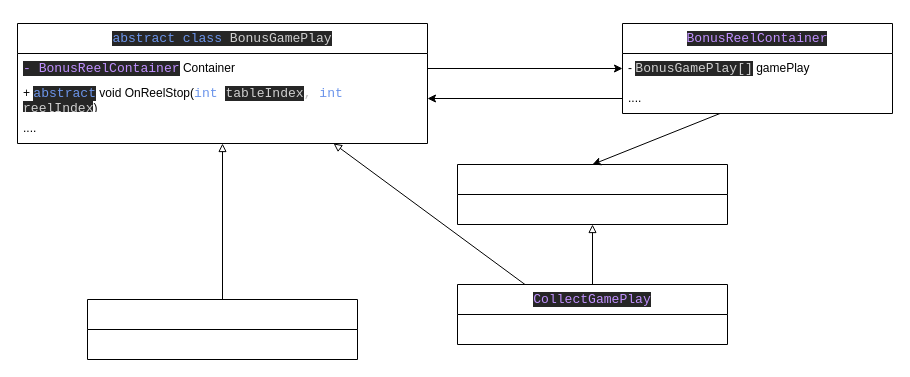
Image size: 910x377. Some labels were removed from this diagram. The centre of each missing label's shape, as x and y in pixels:
<<Interface>> IHasSpecialCoin: the point at 592,194
ColMultGamePlay: the point at 222,329
